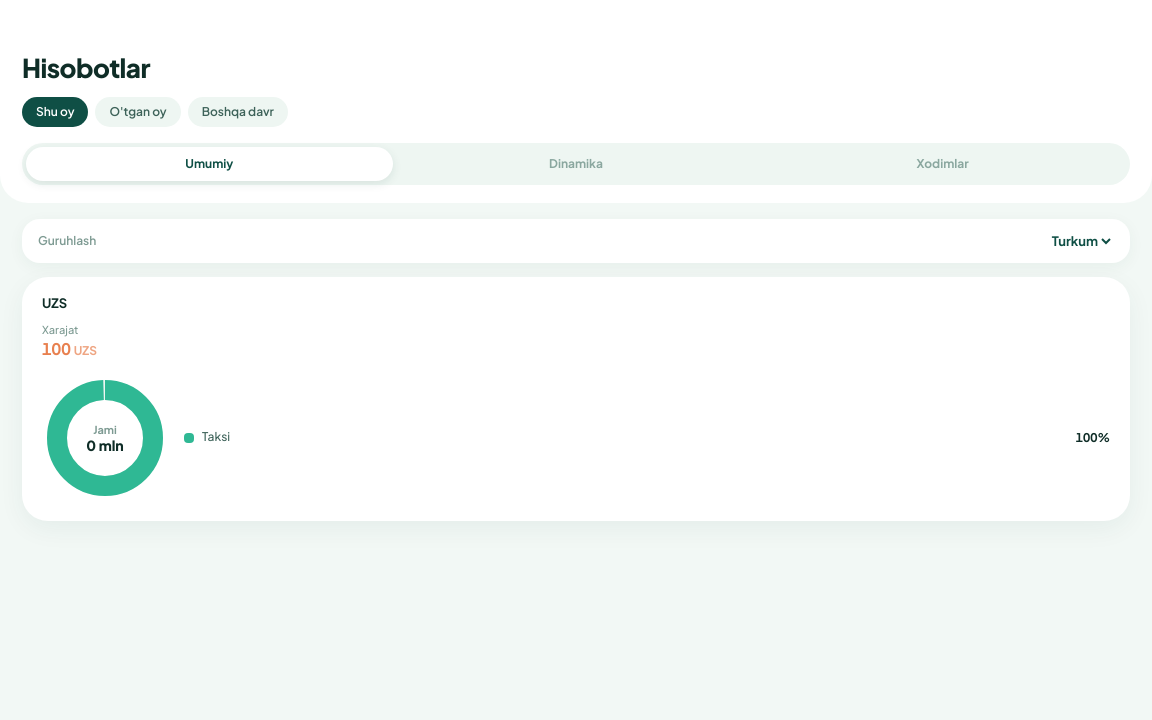
Test: refuses an invalid custom range before making any request
Check: the element with test id "currency-UZS" is shown, box [22, 277, 1130, 521]
Click the button "Boshqa davr". click: [238, 112]
box: [188, 97, 288, 127]
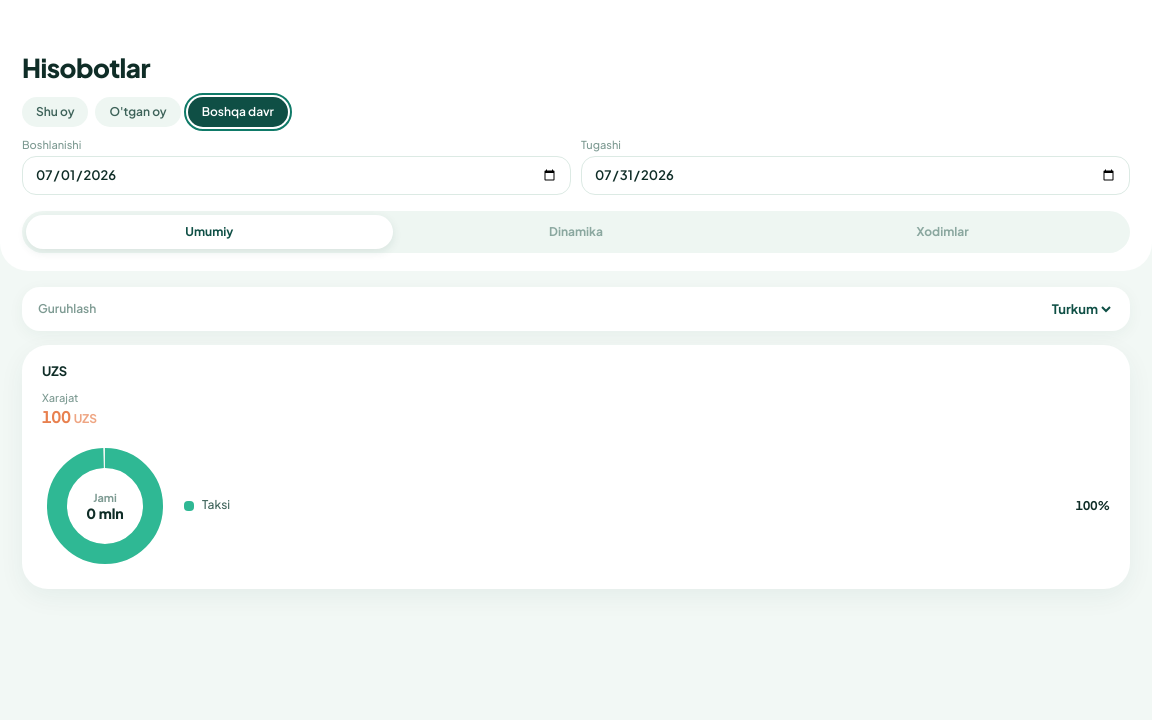
Type "2026-01-01" into the date field labelled "Tugashi". click: [856, 175]
box: [581, 156, 1130, 195]
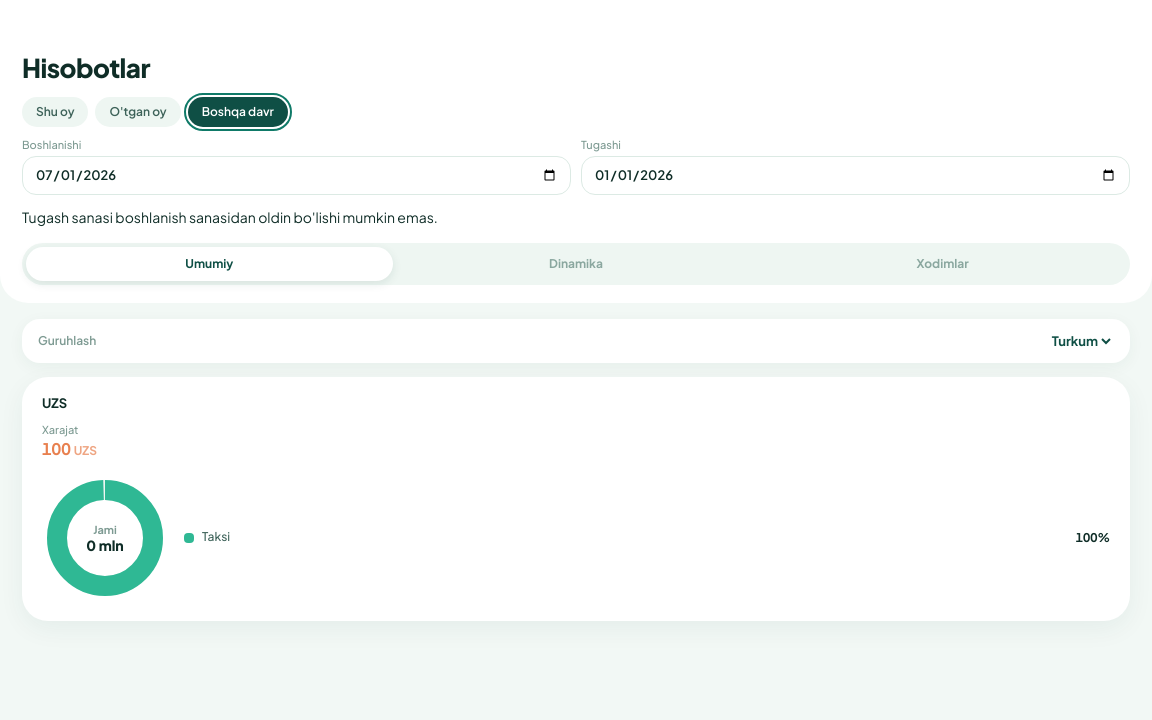
Check: the message reads "Tugash sanasi boshlanish sanasidan oldin bo'lishi mumkin emas.", box [22, 208, 438, 226]
